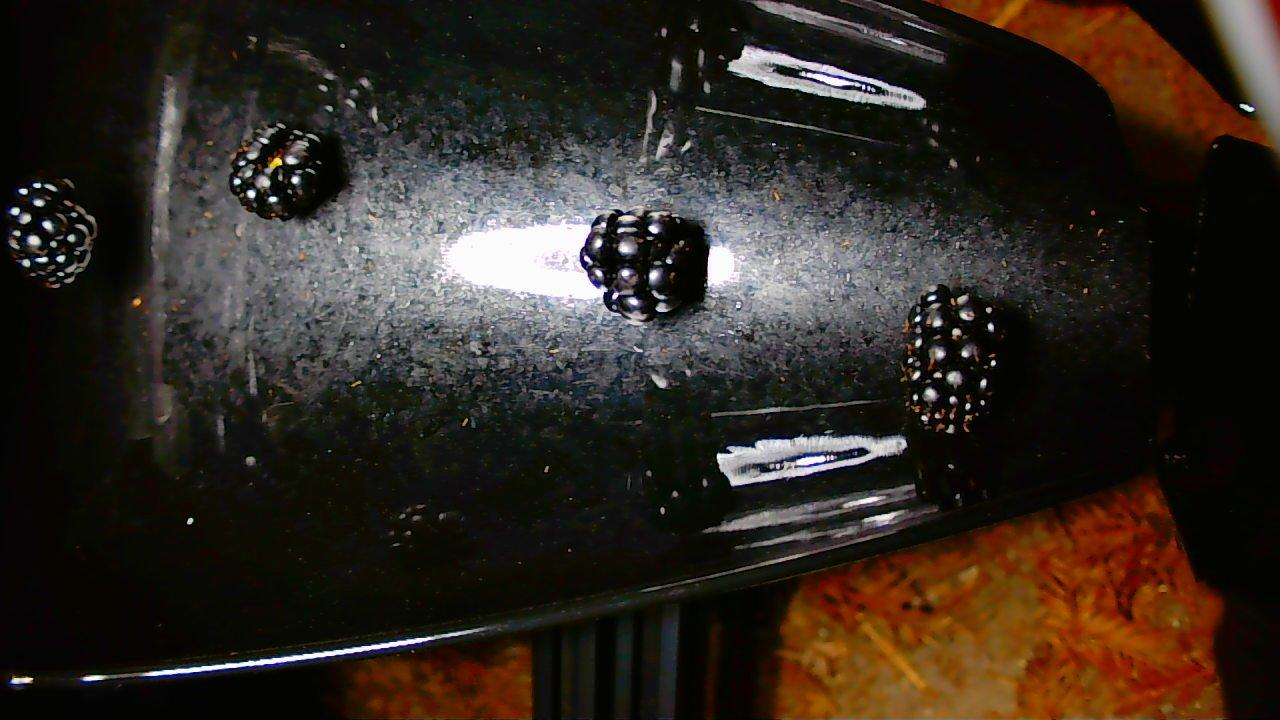berry: (902, 285, 1001, 433), (579, 207, 707, 321), (228, 122, 338, 219), (4, 179, 97, 287)
